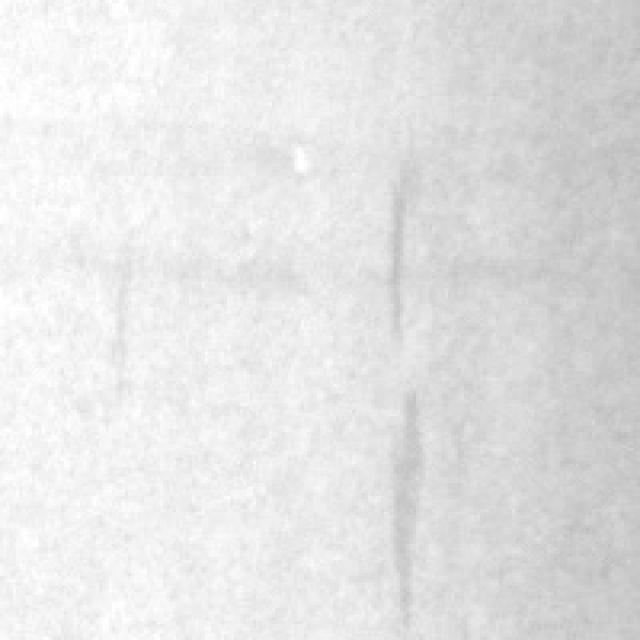inclusion: (365, 157, 422, 358)
